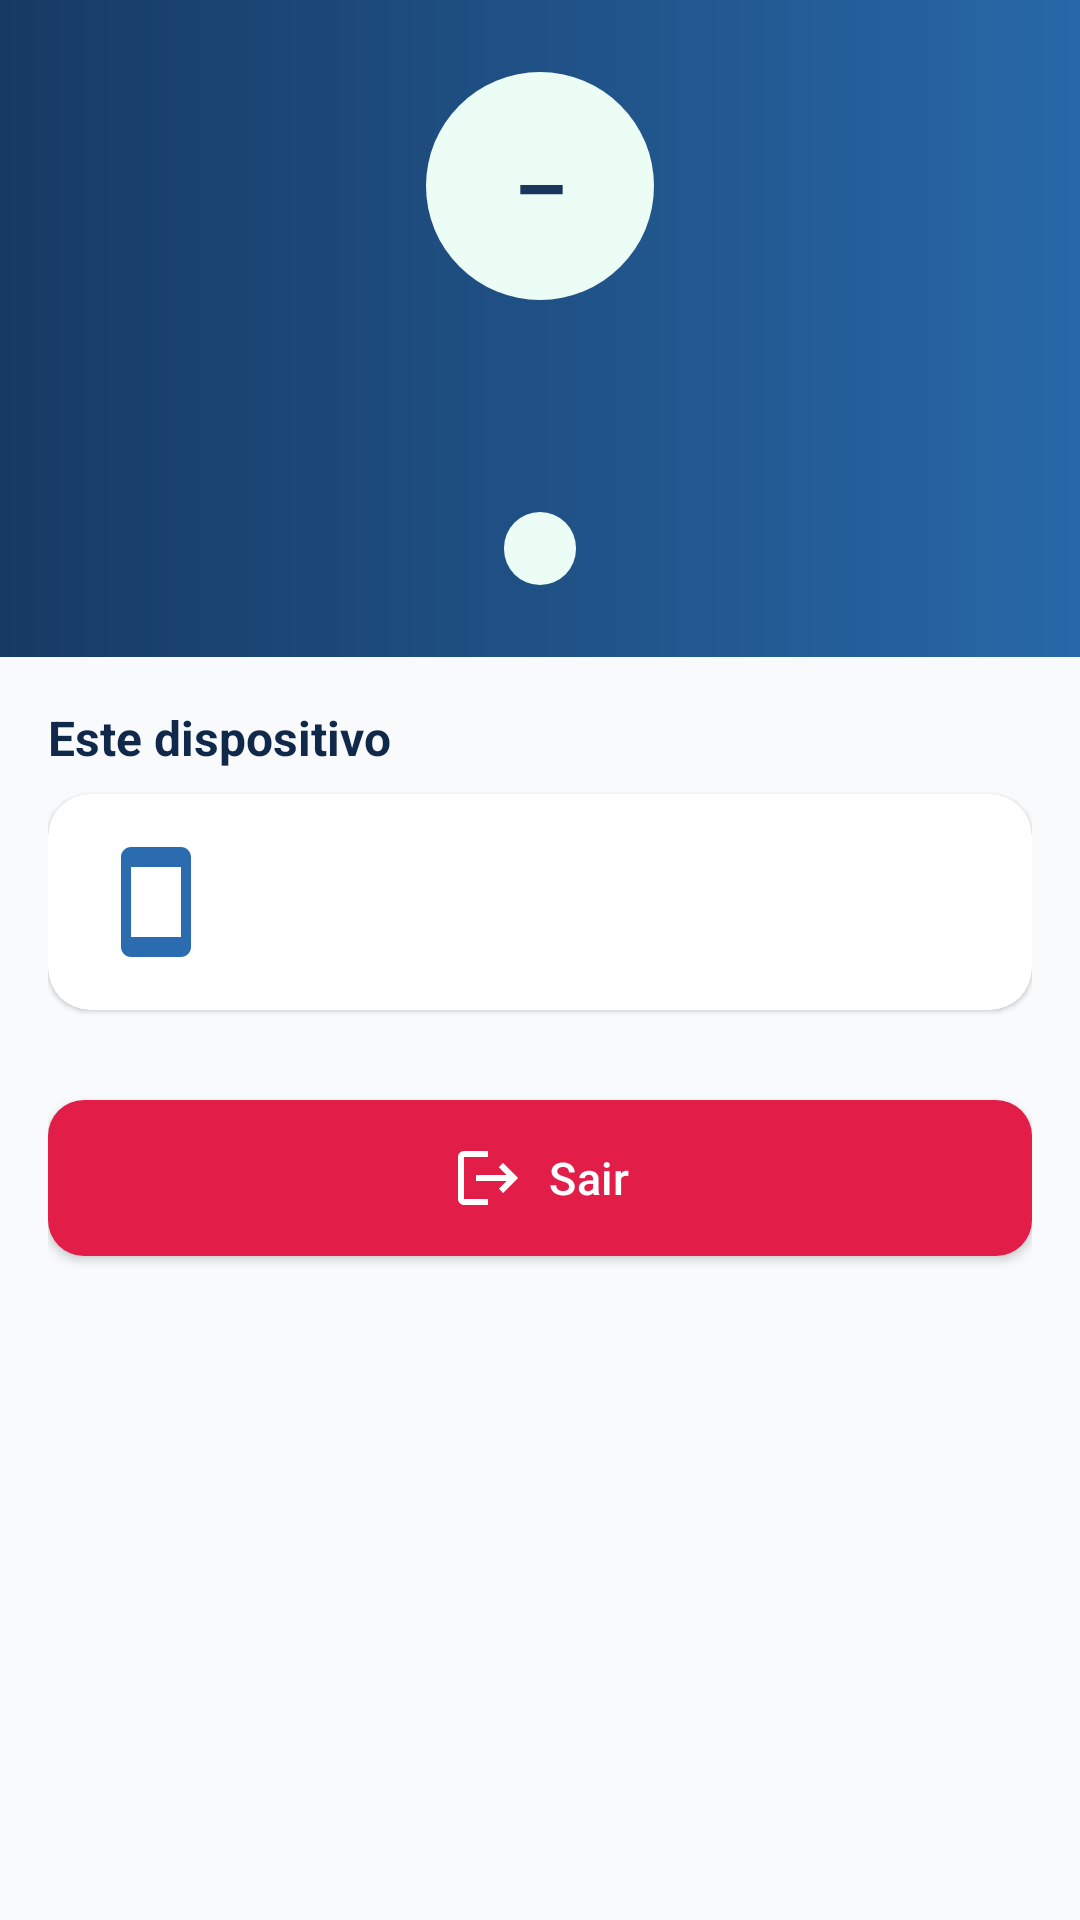

Screen size 1080 x 1920. Icon name, then its center in pixels as (x,y):
device: (156,902)
